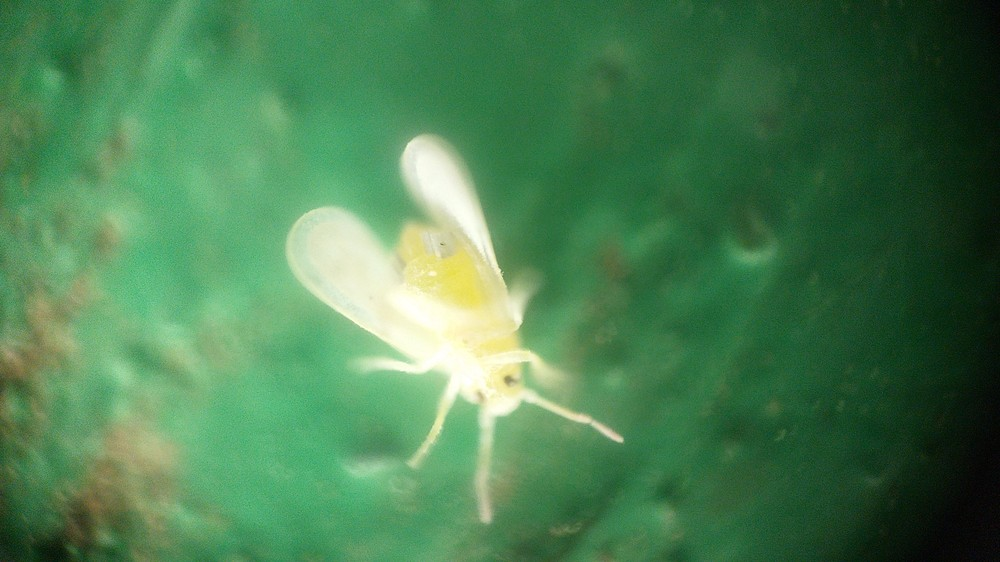Mosca Blanca: (275, 125, 648, 538)
